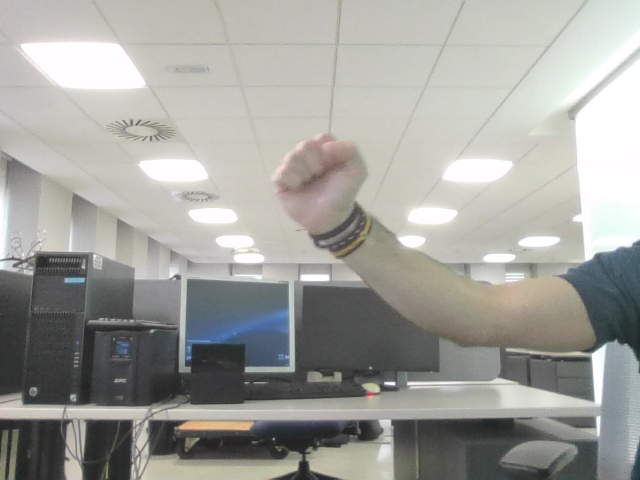Puño: (284, 141, 351, 195)
